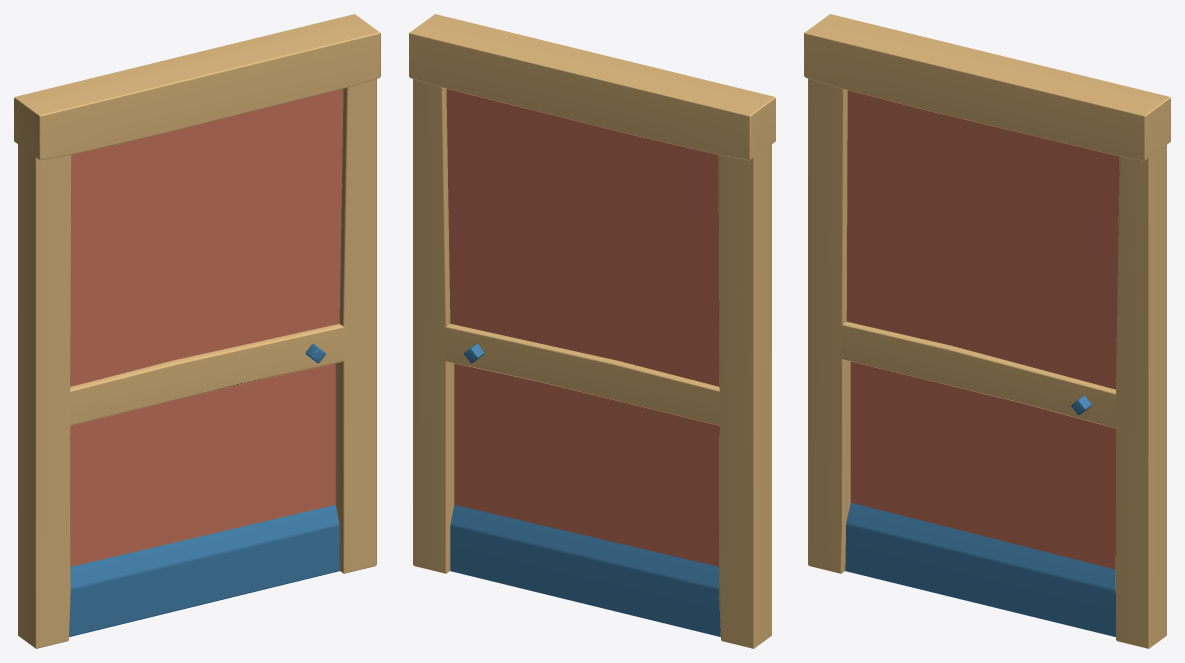
Rendered from Door_V1.fbx.
3 views of the same model, side by side, from view 1: azimuth 30°, elevation 25°; view 2: azimuth 150°, elevation 25°; view 3: azimuth 330°, elevation 25° (orthographic).
Parts seen in each view (by area): view 1: Door_V1 TEX; view 2: Door_V1 TEX; view 3: Door_V1 TEX.
Boxes of the visible parts, x1=… form: Door_V1 TEX: x1=14, y1=14, x2=380, y2=648; Door_V1 TEX: x1=409, y1=14, x2=775, y2=648; Door_V1 TEX: x1=804, y1=14, x2=1170, y2=648.
Size of the model in its own units: 150 by 225 by 23.8.
